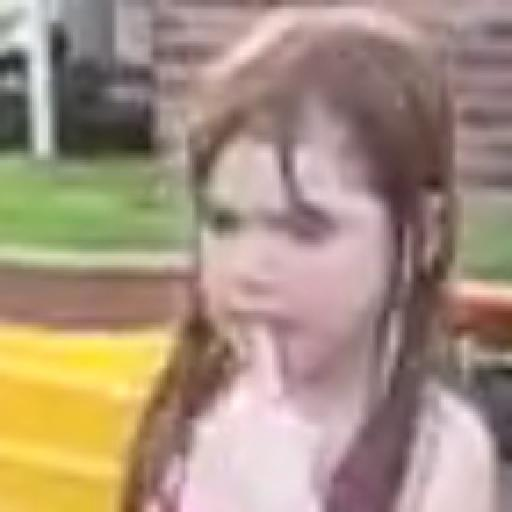Autism: (167, 0, 512, 393)
